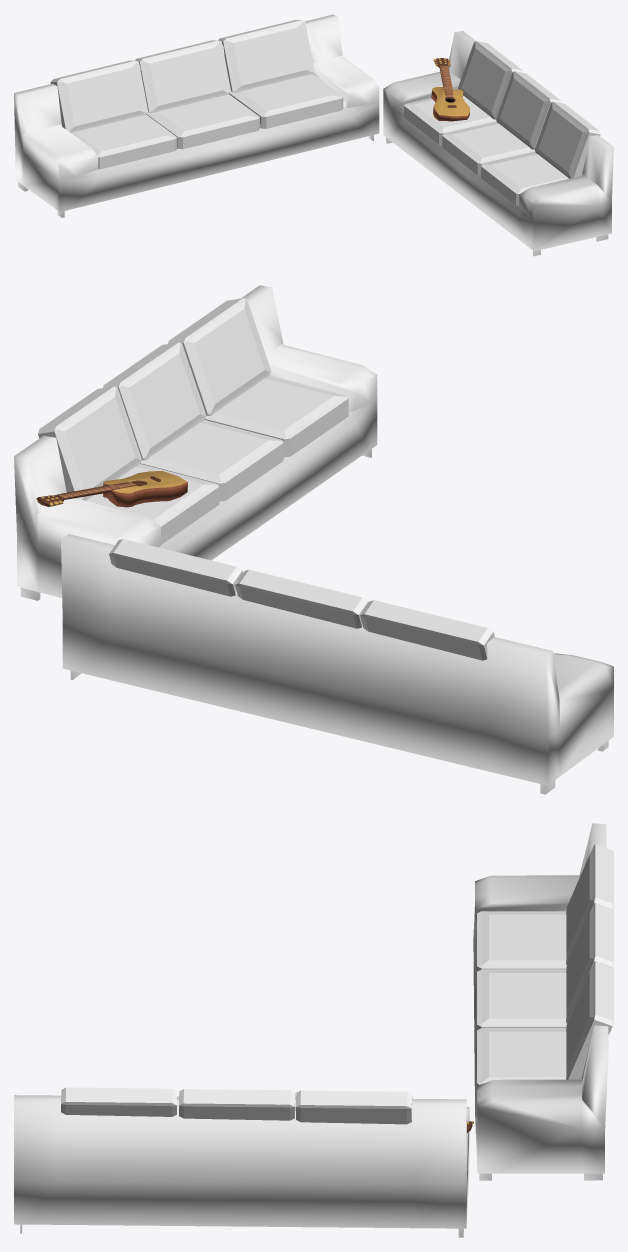
Rendered from guitarandsofa.glb.
The picture shows the model from 3 angles, top to bottom: view 1: azimuth 30°, elevation 25°; view 2: azimuth 150°, elevation 25°; view 3: azimuth 270°, elevation 25°; orthographic projection. The views are drawn at different scales.
Visible parts, largest first — view 1: Sofa, Sofa.001, Cube.009, Cube.015, Cube.013, Cube.014, Cube.012, Cube.011, Cube.021, Cube.019, Cube.017, Cube.018 (+3 smaller); view 2: Sofa, Sofa.001, Cube.021, Cube.017, Cube.019, Cube.020, Cube.018, Cube.009, Cube.013, Cube.015, Cube.016, acousticGuitar; view 3: Sofa.001, Sofa, Cube.012, Cube.011, Cube.014, Cube.017, Cube.019, Cube.015, Cube.021, Cube.013, Cube.009.
Part boxes in pixels (x1=…): Sofa: x1=14, y1=14, x2=379, y2=217; Sofa.001: x1=383, y1=31, x2=613, y2=256; Cube.009: x1=50, y1=60, x2=148, y2=132; Cube.015: x1=218, y1=20, x2=314, y2=92; Cube.013: x1=135, y1=40, x2=230, y2=112; Cube.014: x1=229, y1=74, x2=343, y2=128; Cube.012: x1=146, y1=94, x2=259, y2=149; Cube.011: x1=71, y1=114, x2=177, y2=169; Cube.021: x1=534, y1=101, x2=600, y2=178; Cube.019: x1=496, y1=71, x2=561, y2=149; Cube.017: x1=457, y1=41, x2=523, y2=119; Cube.018: x1=442, y1=122, x2=535, y2=175; Sofa: x1=61, y1=534, x2=613, y2=794; Sofa.001: x1=14, y1=285, x2=377, y2=600; Cube.021: x1=168, y1=298, x2=270, y2=415; Cube.017: x1=38, y1=386, x2=141, y2=500; Cube.019: x1=103, y1=342, x2=205, y2=460; Cube.020: x1=205, y1=375, x2=348, y2=457; Cube.018: x1=140, y1=420, x2=283, y2=501; Cube.009: x1=360, y1=600, x2=494, y2=660; Cube.013: x1=235, y1=569, x2=368, y2=628; Cube.015: x1=109, y1=539, x2=242, y2=596; Cube.016: x1=86, y1=464, x2=219, y2=544; acousticGuitar: x1=36, y1=471, x2=187, y2=507; Sofa.001: x1=14, y1=1095, x2=469, y2=1237; Sofa: x1=473, y1=823, x2=608, y2=1180; Cube.012: x1=477, y1=969, x2=566, y2=1029; Cube.011: x1=477, y1=911, x2=566, y2=971; Cube.014: x1=477, y1=1028, x2=566, y2=1085; Cube.017: x1=295, y1=1090, x2=412, y2=1124; Cube.019: x1=179, y1=1089, x2=295, y2=1120; Cube.015: x1=566, y1=961, x2=613, y2=1079; Cube.021: x1=61, y1=1087, x2=177, y2=1116; Cube.013: x1=566, y1=902, x2=613, y2=1023; Cube.009: x1=566, y1=844, x2=613, y2=964.
Bounding box in the file's own units: 5.12 × 1.2 × 4.56.
Materials: 2 (2 with a texture image).
